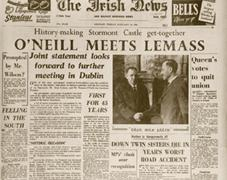news_paper: (1, 1, 227, 179)
